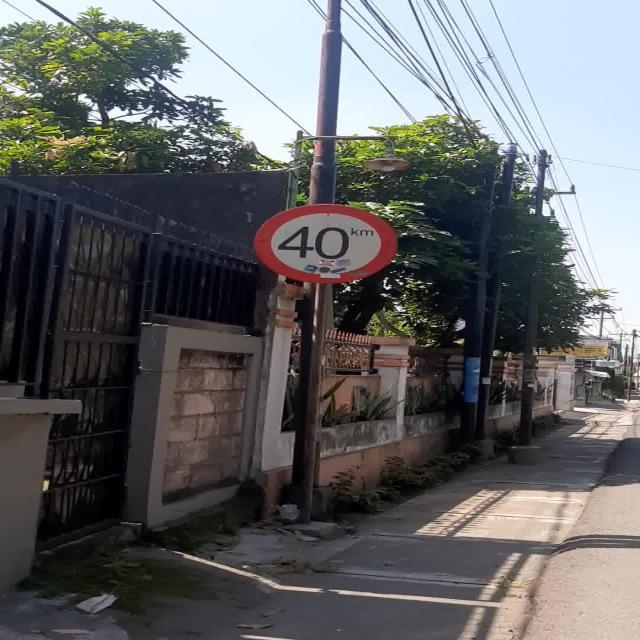Kecepatan Maks. 40 km: (254, 204, 398, 284)
